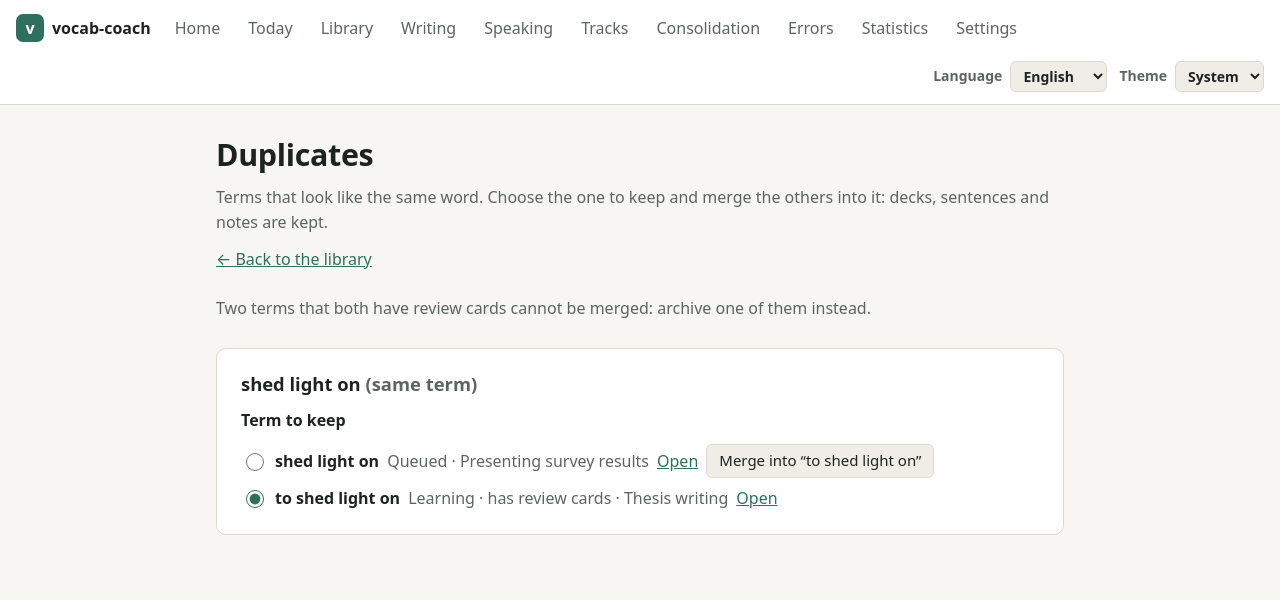
Test: duplicates page › lets the user keep the other term
Click the radio button labelled "shed light on" at x=255, y=462, box [246, 454, 264, 472]
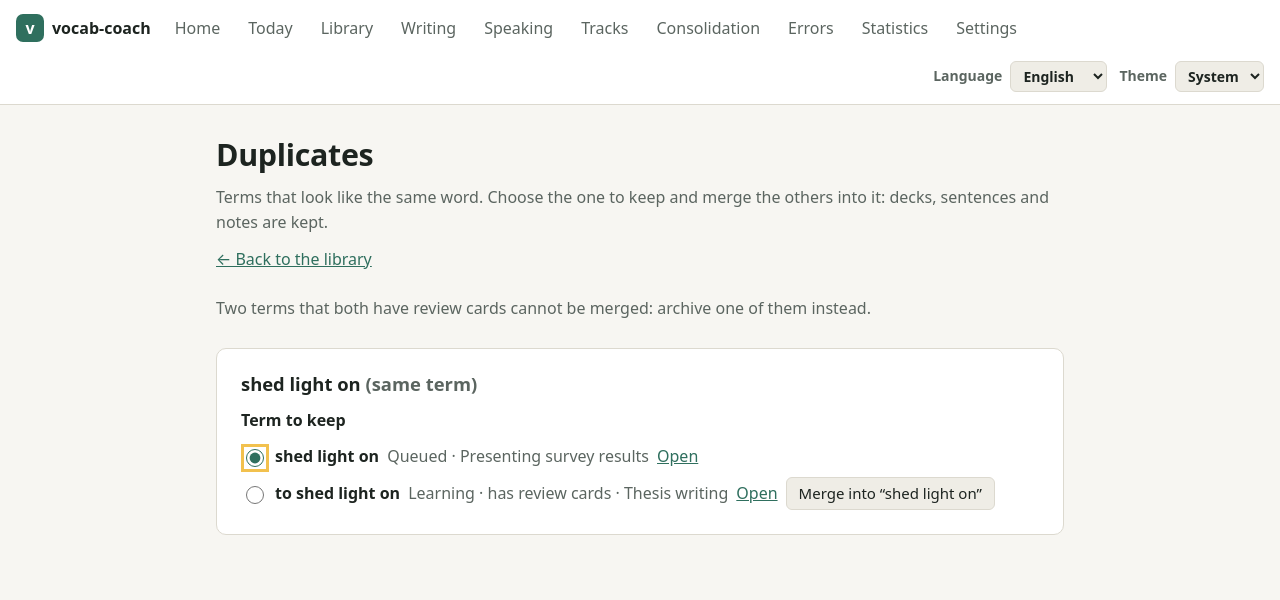
Click the button "Merge into “shed light on”" at x=890, y=494, box [786, 477, 995, 510]
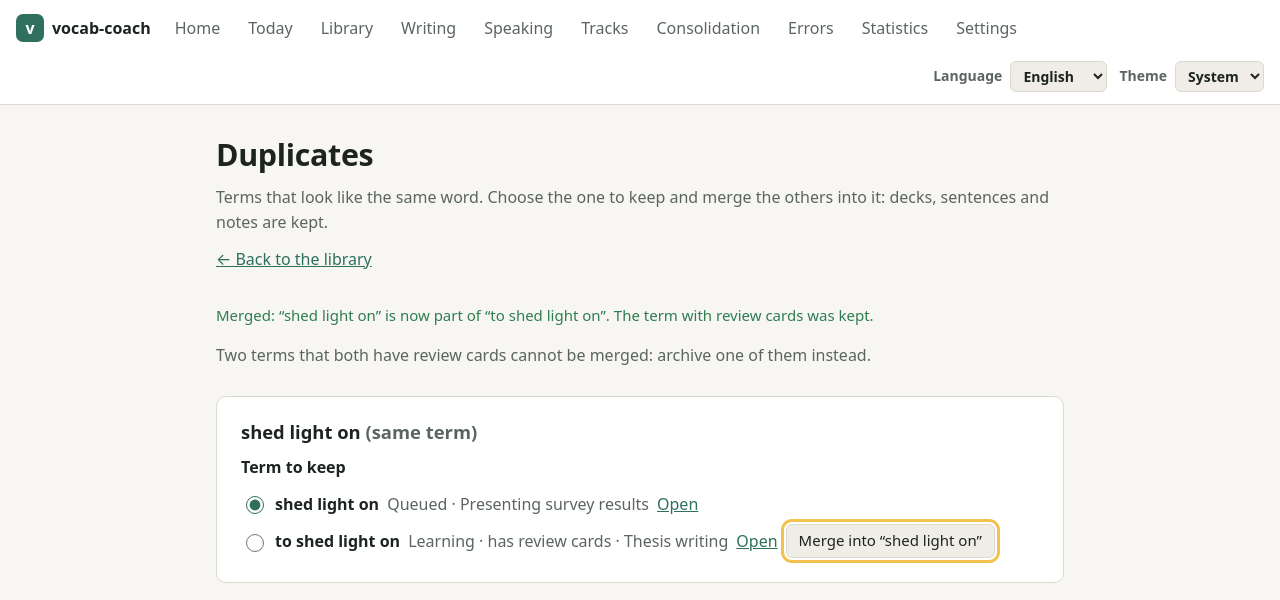
Expected: the text "The term with review cards was kept" is shown, [614, 305, 874, 325]
Expected: the text "“shed light on” is now part of “to shed light on”" is shown, [216, 305, 610, 325]
